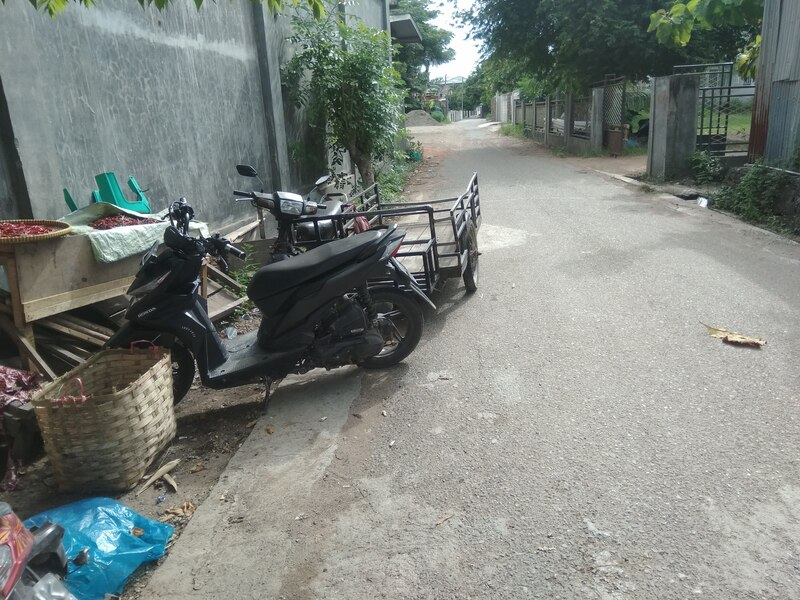becak barang: (229, 158, 487, 304)
